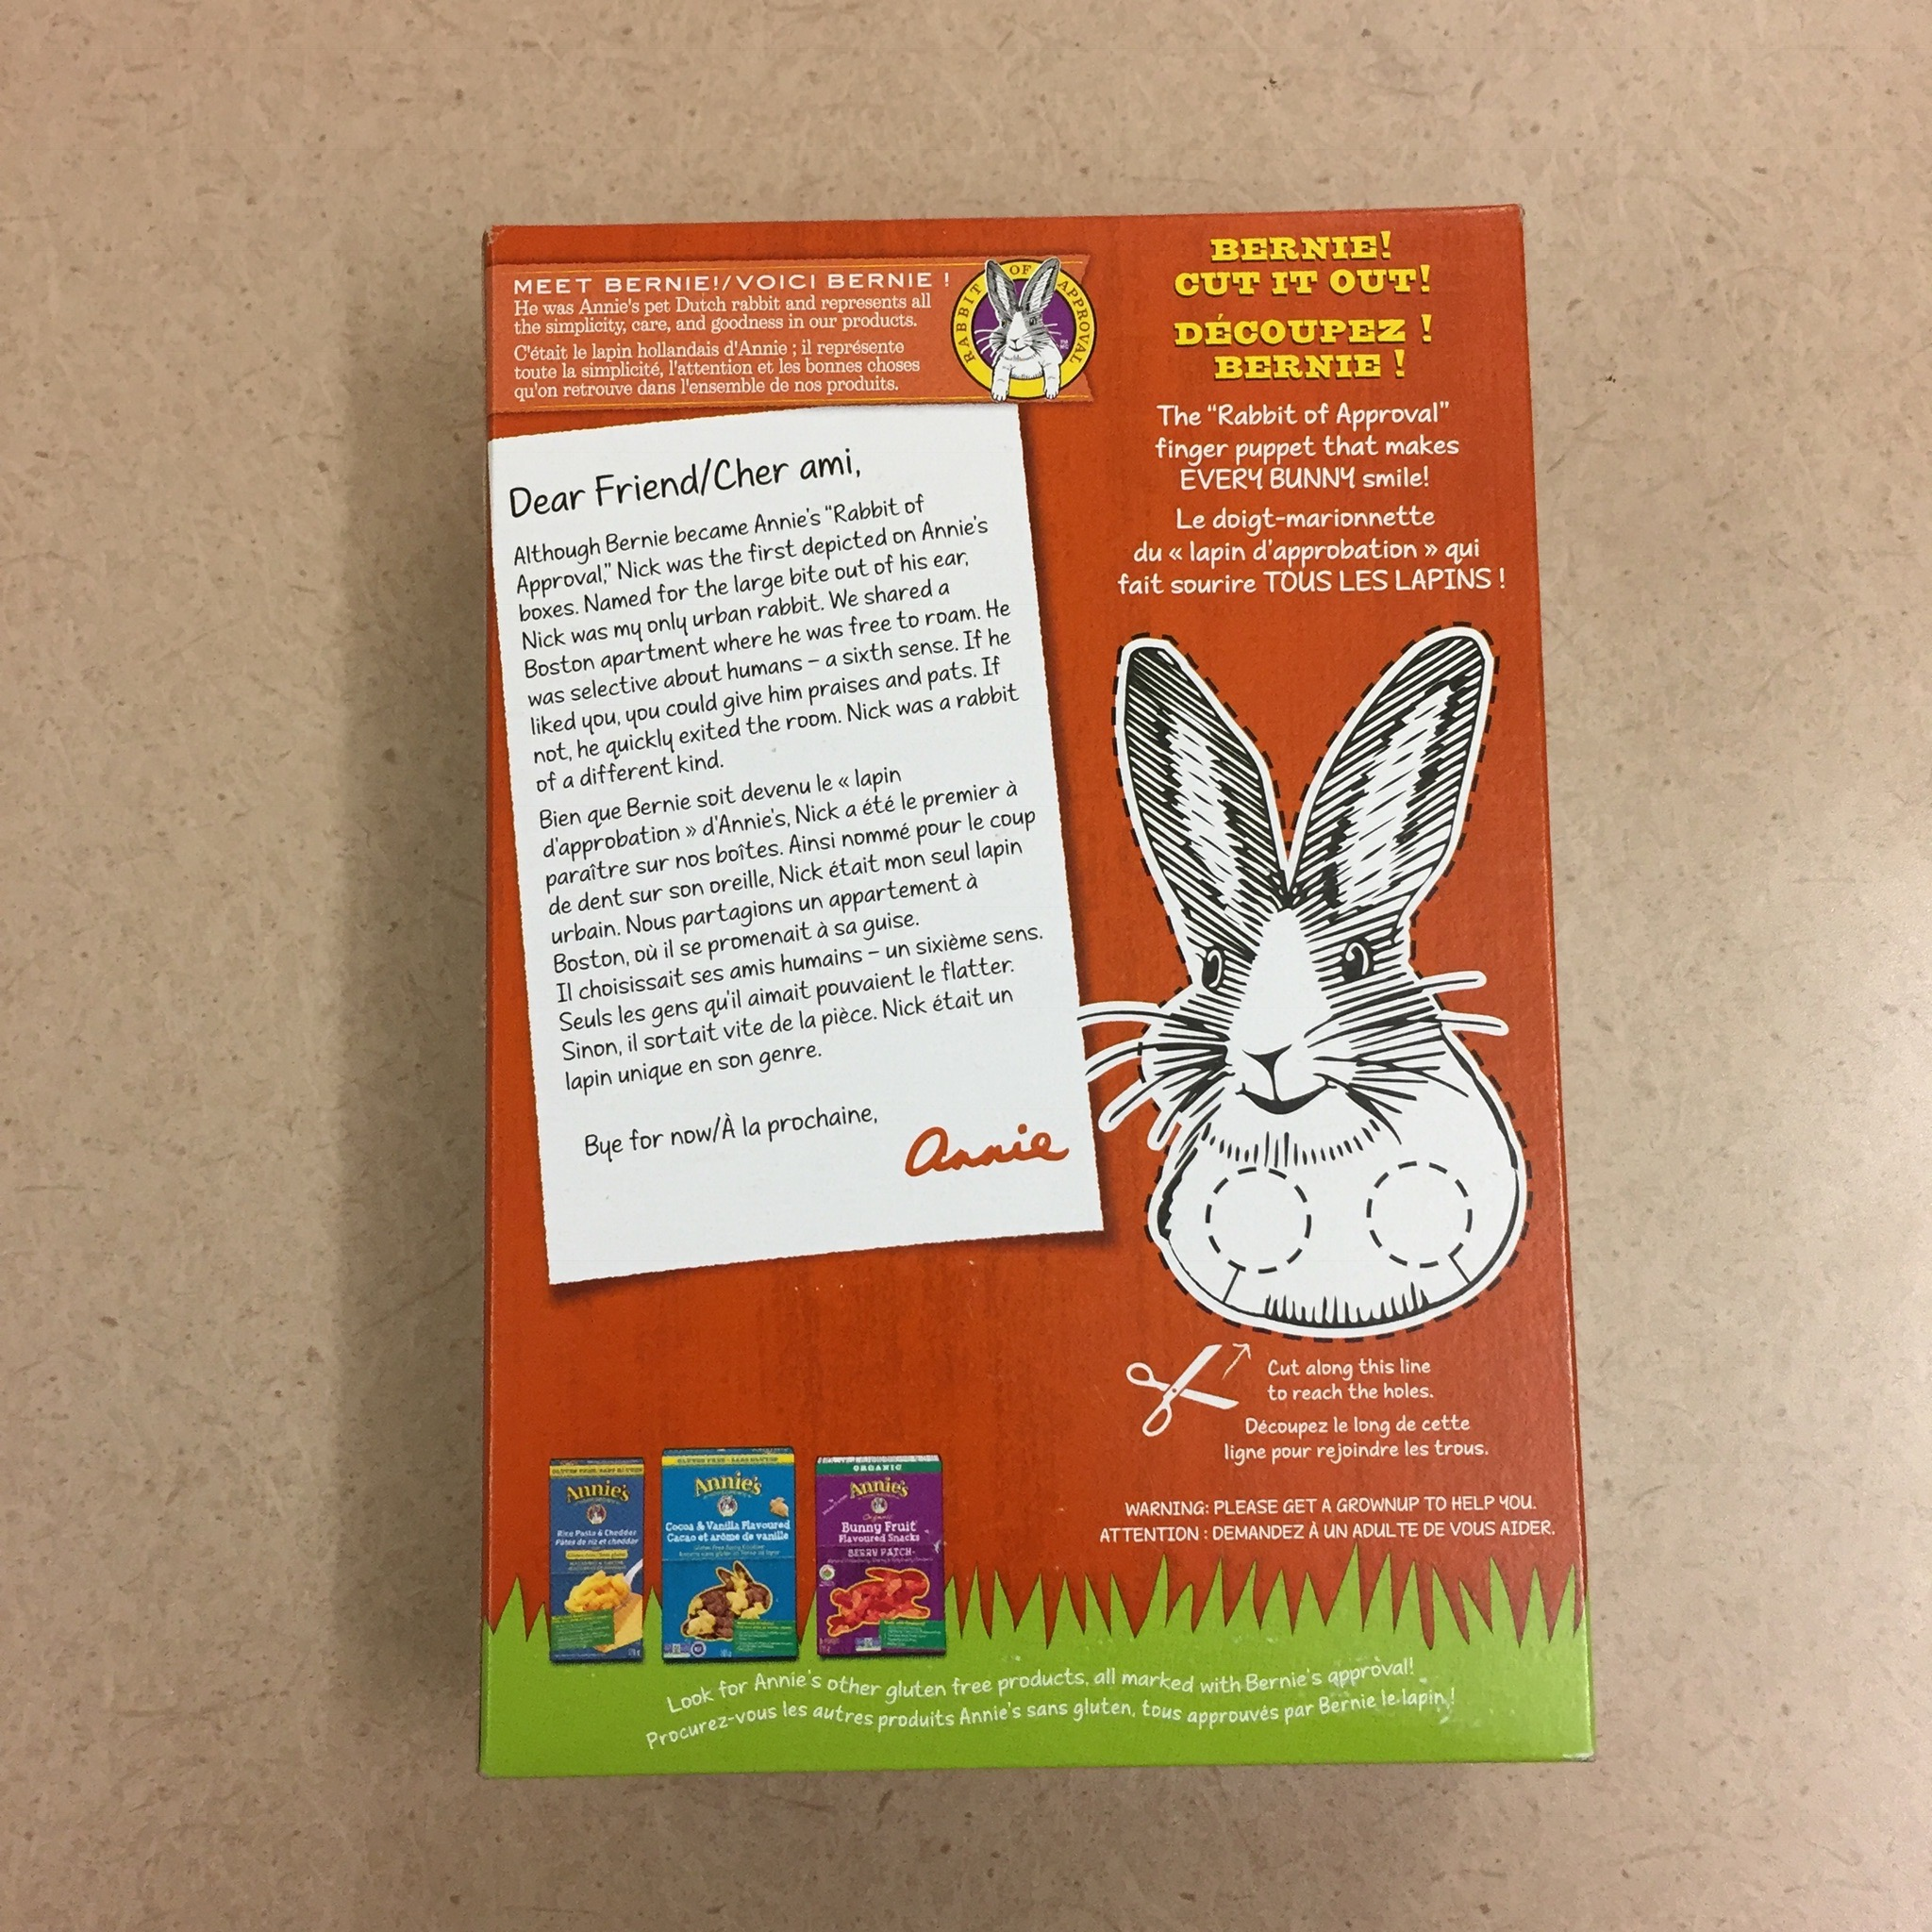annies_snickerdoodle_cinnamon_sugar: (474, 200, 1599, 1782)
